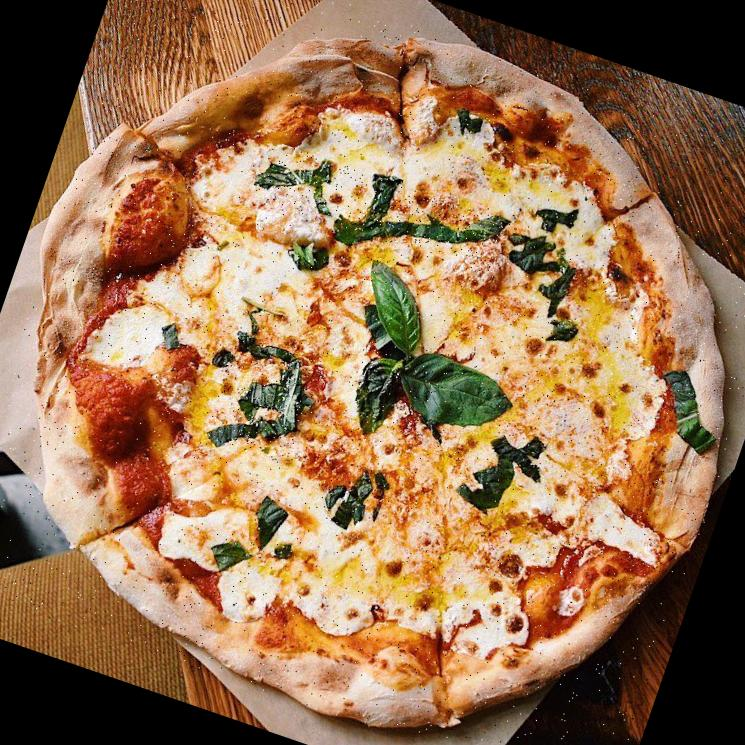Basil: (322, 255, 542, 465), (252, 140, 512, 280), (203, 334, 322, 466)
Pizza: (0, 0, 745, 745)
